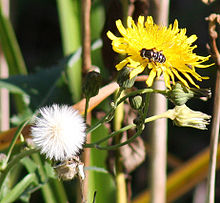dandelion: (112, 13, 206, 99)
